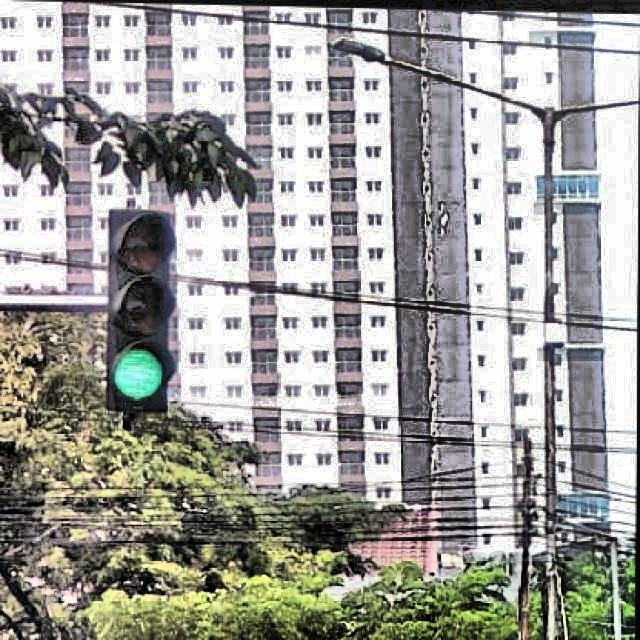green: (102, 204, 168, 416)
